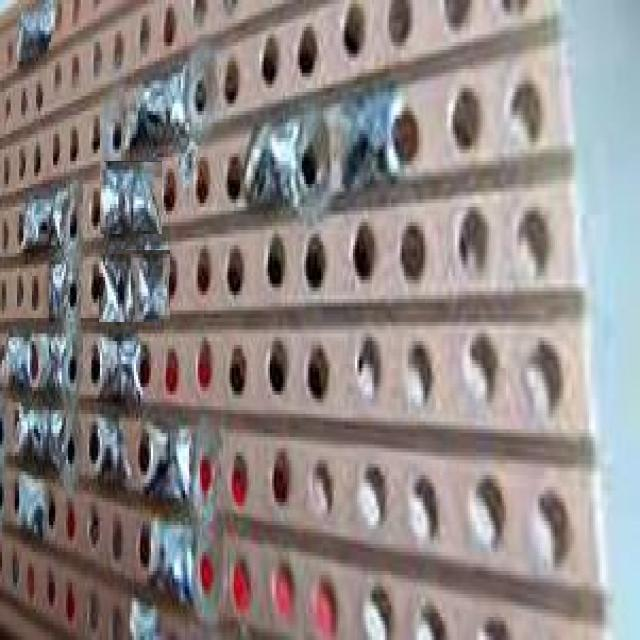Short_circuit: (98, 249, 170, 322), (100, 161, 162, 234)
